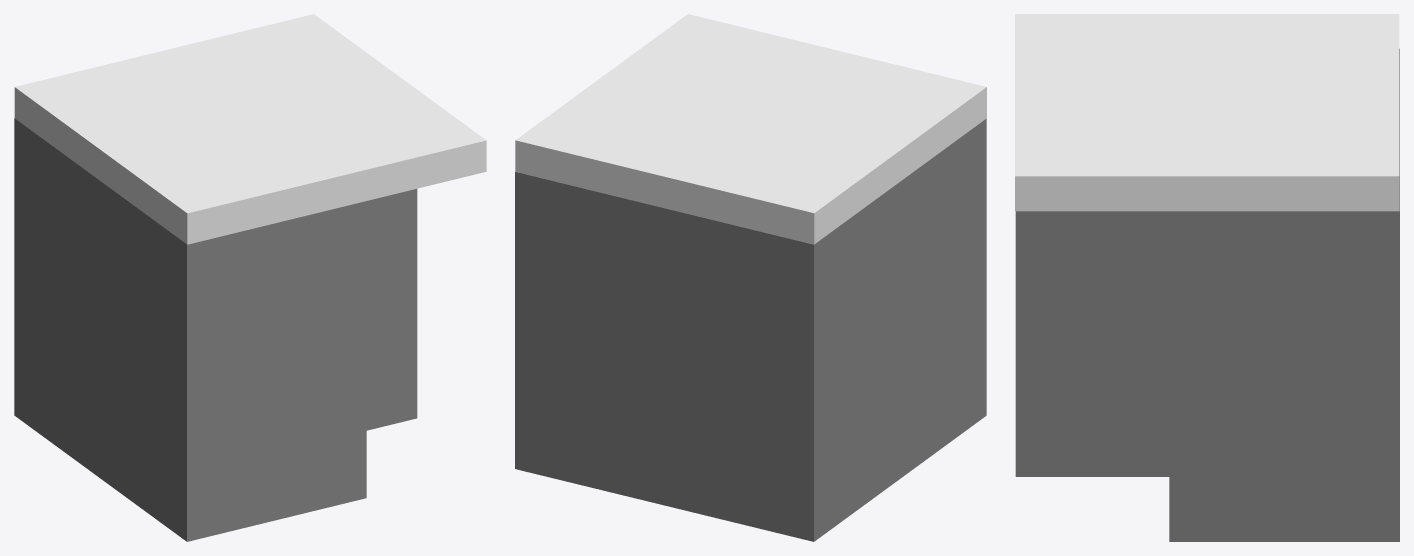
File: Bench_Corner_05.fbx
3 renders of one model, left to right at view 1: azimuth 30°, elevation 25°; view 2: azimuth 150°, elevation 25°; view 3: azimuth 270°, elevation 25°, orthographic. The views are drawn at different scales.
Visible parts, largest first — view 1: Bench_Corner_05; view 2: Bench_Corner_05; view 3: Bench_Corner_05.
Boxes of the visible parts, box(x1,y1,x2,y2) form: Bench_Corner_05: box(14, 14, 486, 541); Bench_Corner_05: box(515, 14, 986, 541); Bench_Corner_05: box(1015, 14, 1399, 541).
Size of the model in its own units: 150 by 158 by 150.
